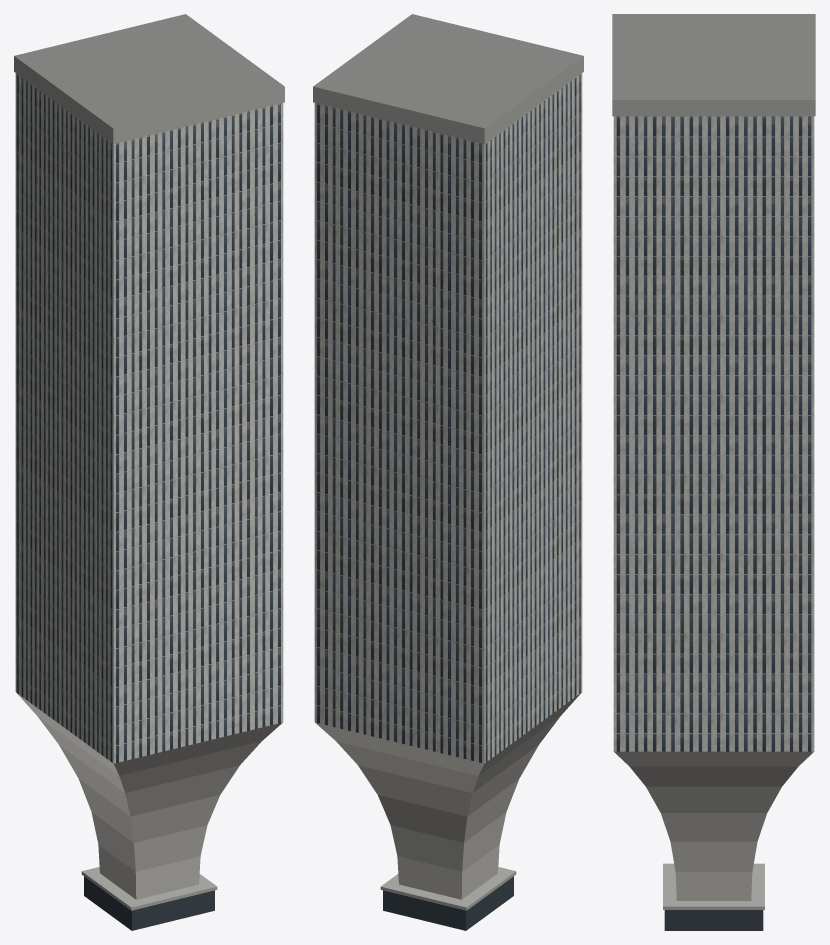
Rendered from rainier_tower.glb.
The picture shows the model from 3 angles, left to right: view 1: azimuth 30°, elevation 25°; view 2: azimuth 150°, elevation 25°; view 3: azimuth 270°, elevation 25°; orthographic projection. The views are drawn at different scales.
Visible parts, largest first — view 1: rainier_tower; view 2: rainier_tower; view 3: rainier_tower.
Part boxes in pixels (x1,y1,x2,y2): rainier_tower: [14, 14, 284, 930]; rainier_tower: [313, 14, 583, 930]; rainier_tower: [612, 14, 815, 930].
Size of the model in its own units: 33.9 by 157 by 33.9.
Materials: 2 (2 with a texture image).
